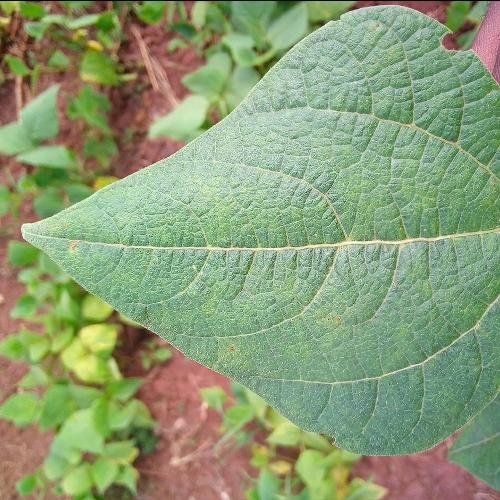embun tepung: (223, 126, 481, 370)
